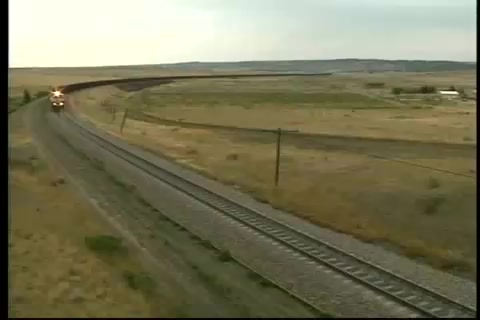train: (49, 88, 68, 113)
